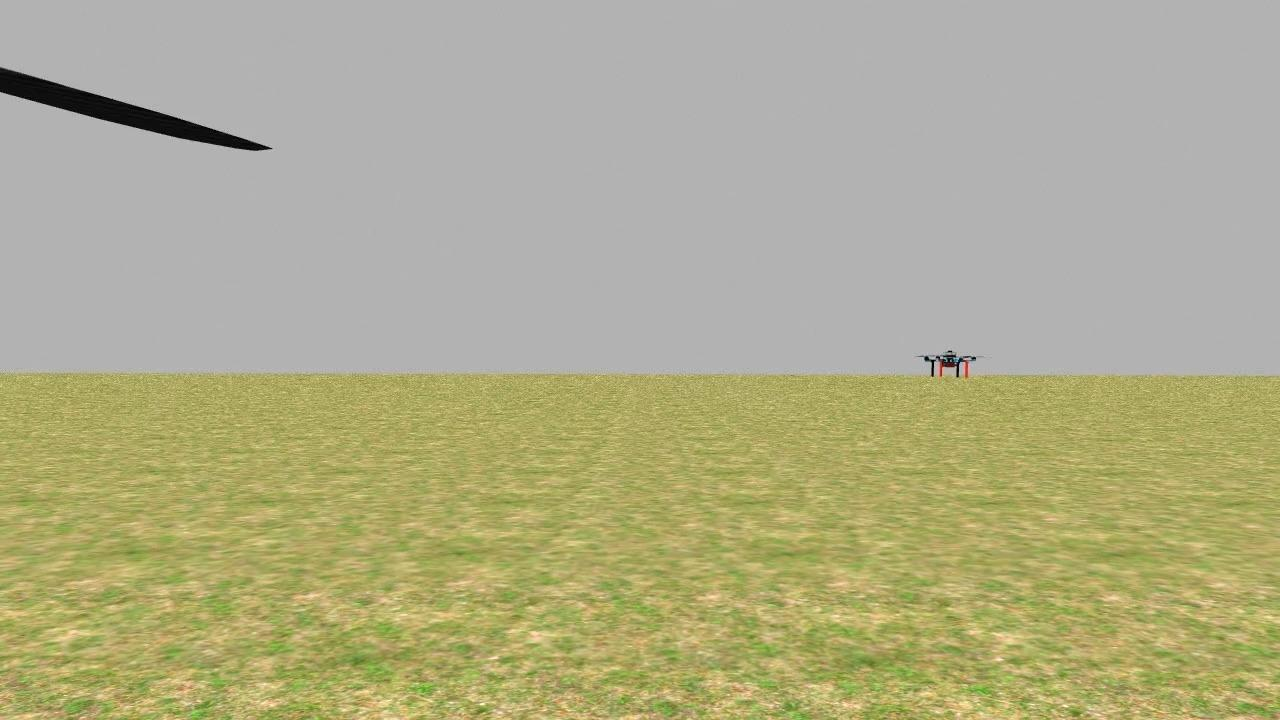UAV: (916, 342, 991, 389)
